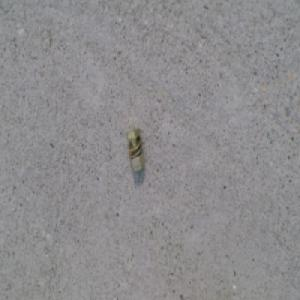BoltNutSet: (127, 130, 147, 177)
